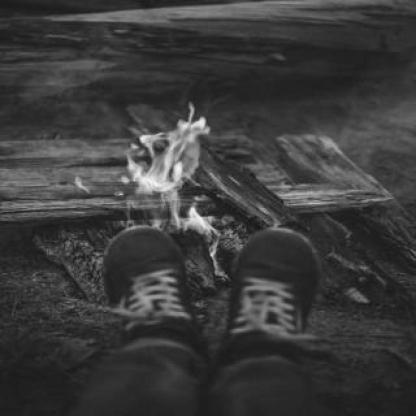fire: (116, 97, 222, 255)
